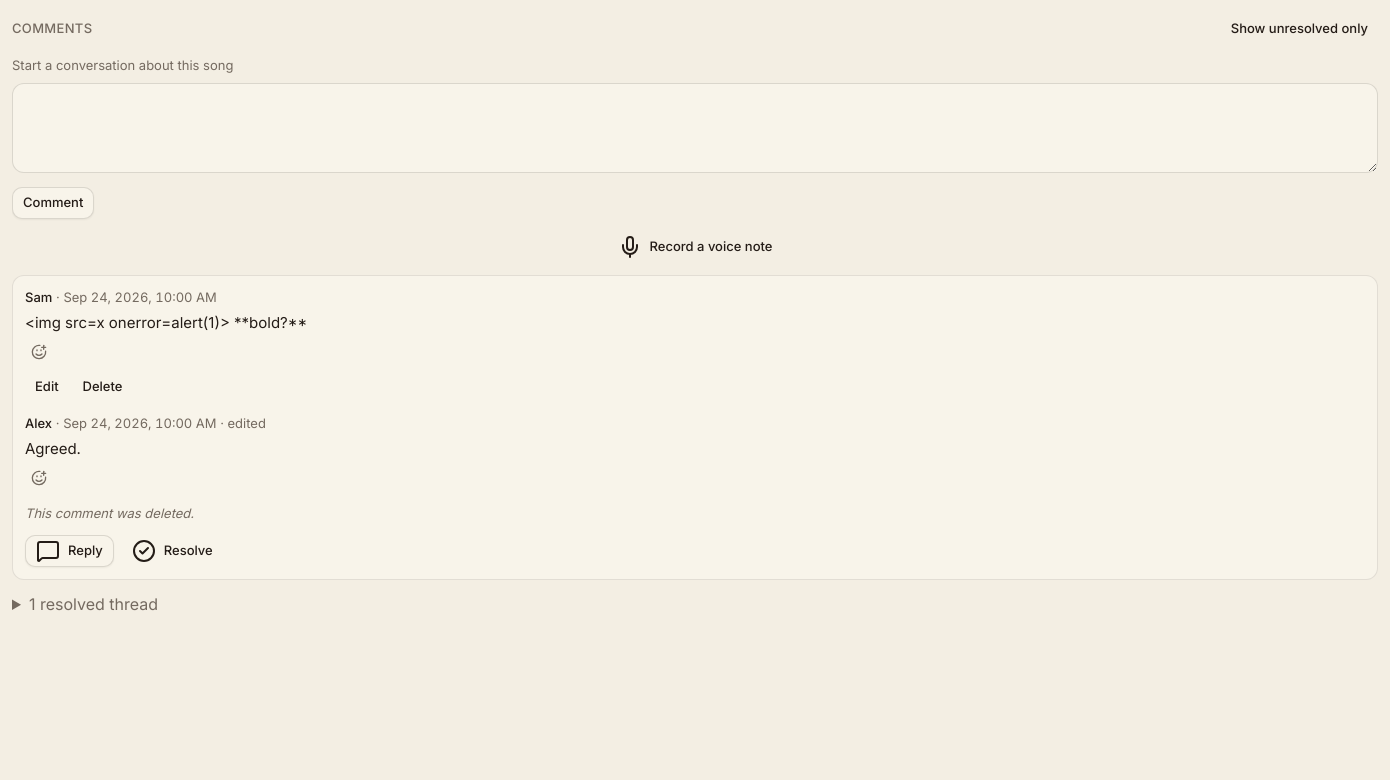
Scenario: CommentsPanel (task 090) › refuses an empty comment before sending it
Click the button "Comment". click: (53, 203)
box: [12,187,94,219]
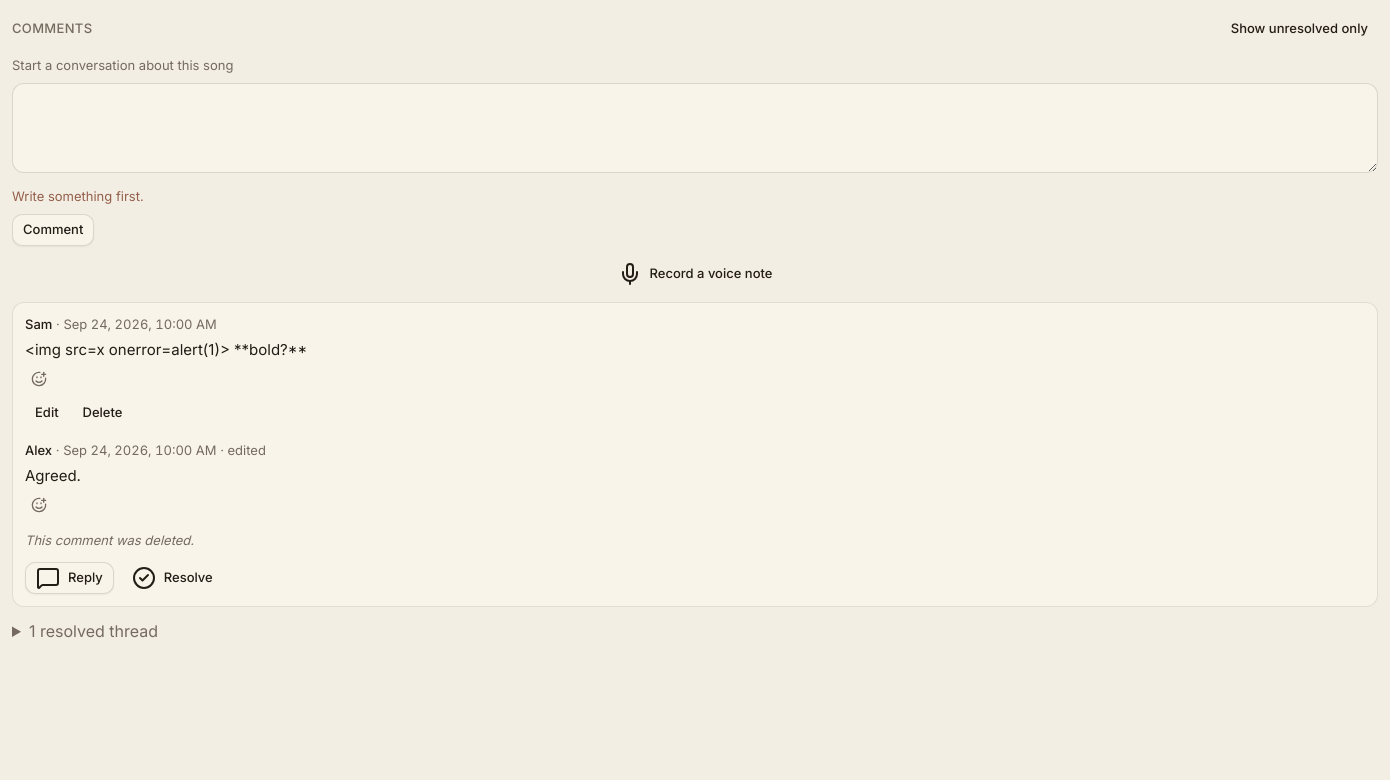
Now the message reads "Write something first.", box [12,188,144,204]
